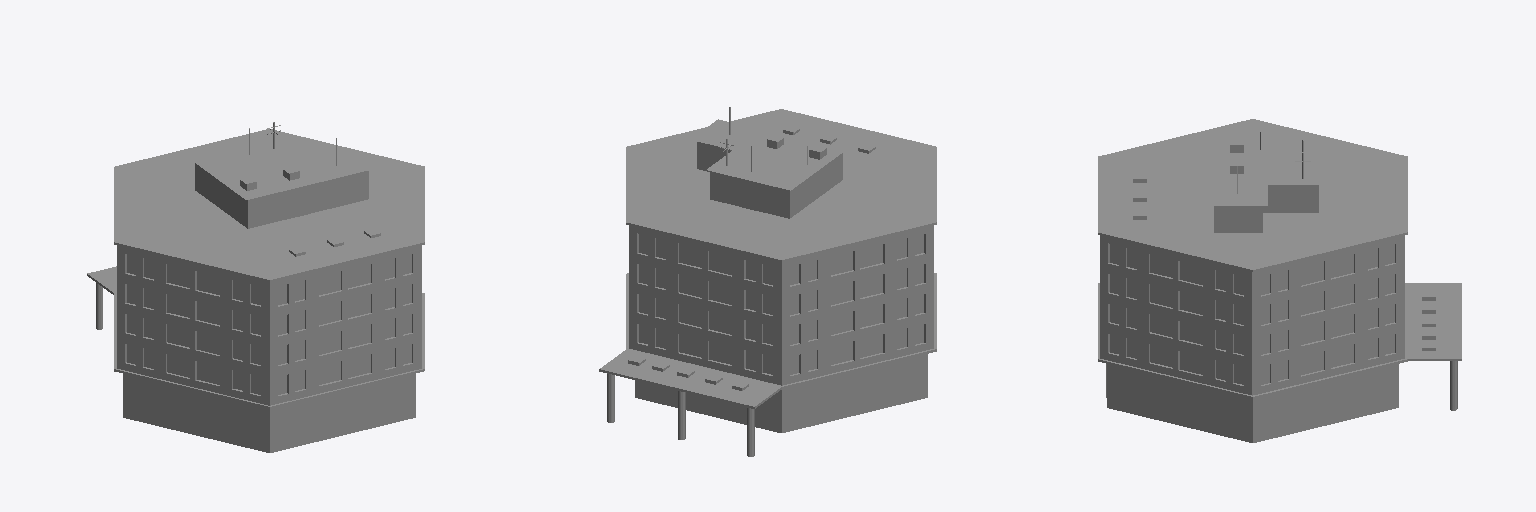
File: building1.obj
3 renders of one model, left to right at view 1: azimuth 30°, elevation 25°; view 2: azimuth 150°, elevation 25°; view 3: azimuth 270°, elevation 25°, orthographic.
Parts seen in each view (by area): view 1: Plane.041_Plane.052; view 2: Plane.041_Plane.052; view 3: Plane.041_Plane.052.
Part boxes in pixels (bbox=[...]): Plane.041_Plane.052: bbox=[87, 122, 424, 452]; Plane.041_Plane.052: bbox=[599, 107, 936, 456]; Plane.041_Plane.052: bbox=[1098, 119, 1461, 442].
Size of the model in its own units: 7.76 by 5.69 by 7.9.